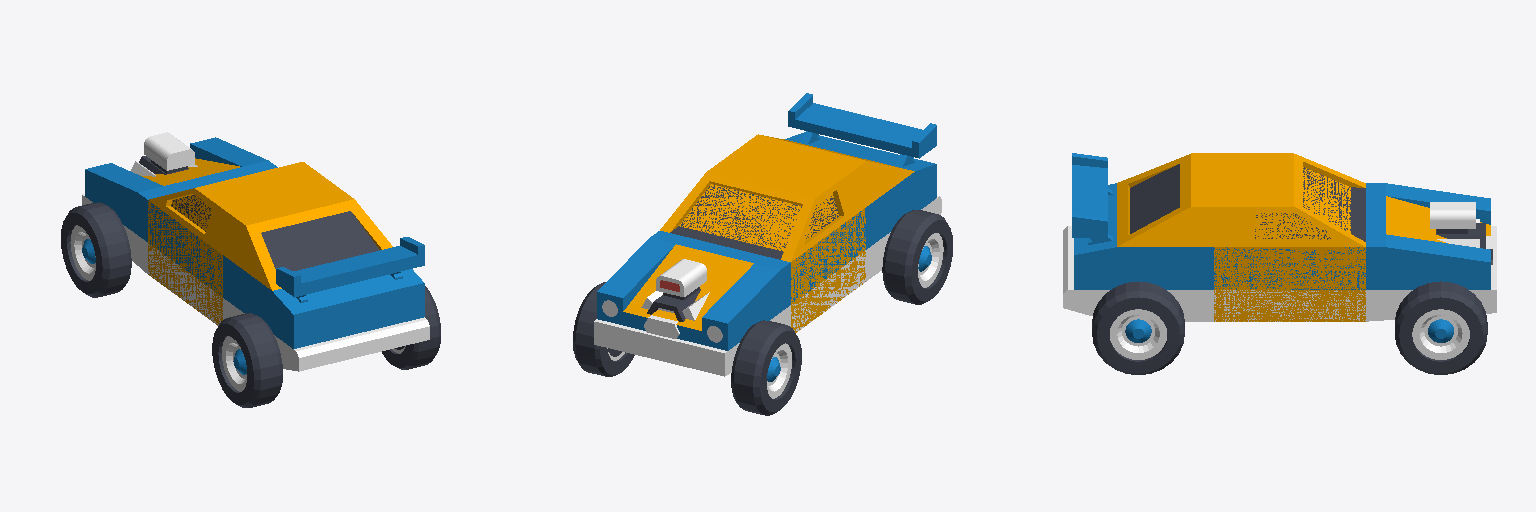
The model's file is RaceCarUnMerged.obj.
3 views of the same model, side by side, from view 1: azimuth 30°, elevation 25°; view 2: azimuth 150°, elevation 25°; view 3: azimuth 270°, elevation 25° (orthographic).
Visible parts, largest first — view 1: trunk_square_4, windshield_default_1, hood_square_0, wheel_colored_6, wheel_colored_7, detail_spoiler_10, detail_engine_5, wheel_colored_8; view 2: windshield_default_1, hood_square_0, trunk_square_4, wheel_colored_6, wheel_colored_7, detail_spoiler_10, detail_engine_5, wheel_colored_9; view 3: windshield_default_1, trunk_square_4, hood_square_0, wheel_colored_8, wheel_colored_9, detail_spoiler_10, detail_engine_5.
Part boxes in pixels (left/top/right/bottom): trunk_square_4: left=223, top=191, right=429, bottom=371; windshield_default_1: left=148, top=162, right=342, bottom=325; hood_square_0: left=82, top=137, right=277, bottom=273; wheel_colored_6: left=61, top=202, right=131, bottom=297; wheel_colored_7: left=212, top=313, right=282, bottom=407; detail_spoiler_10: left=276, top=237, right=424, bottom=302; detail_engine_5: left=131, top=132, right=197, bottom=176; wheel_colored_8: left=382, top=286, right=440, bottom=369; windshield_default_1: left=660, top=143, right=865, bottom=332; hood_square_0: left=594, top=231, right=790, bottom=376; trunk_square_4: left=747, top=132, right=941, bottom=281; wheel_colored_6: left=731, top=320, right=801, bottom=415; wheel_colored_7: left=882, top=210, right=952, bottom=304; detail_spoiler_10: left=788, top=93, right=936, bottom=166; detail_engine_5: left=641, top=259, right=709, bottom=338; wheel_colored_9: left=573, top=282, right=634, bottom=376; windshield_default_1: left=1214, top=153, right=1365, bottom=321; trunk_square_4: left=1063, top=153, right=1213, bottom=321; hood_square_0: left=1366, top=183, right=1496, bottom=321; wheel_colored_8: left=1092, top=281, right=1184, bottom=374; wheel_colored_9: left=1395, top=281, right=1487, bottom=374; detail_spoiler_10: left=1072, top=153, right=1112, bottom=244; detail_engine_5: left=1430, top=202, right=1492, bottom=264.
Size of the model in its own units: 1.43 by 1.11 by 2.87.